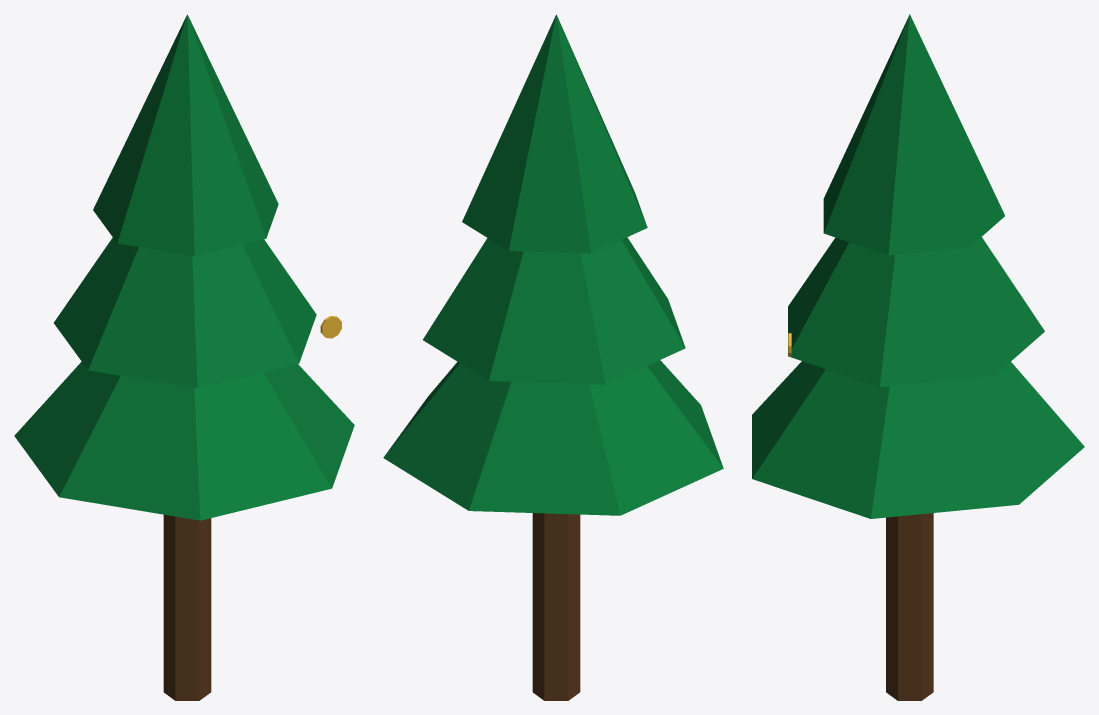
Rendered from Prop_OR_LedgerTree_08.glb.
3 renders of one model, left to right at view 1: azimuth 30°, elevation 25°; view 2: azimuth 150°, elevation 25°; view 3: azimuth 270°, elevation 25°, orthographic.
Visible parts, largest first — view 1: Prop_OR_LedgerTree_08; view 2: Prop_OR_LedgerTree_08; view 3: Prop_OR_LedgerTree_08.
Part boxes in pixels (x1=…): Prop_OR_LedgerTree_08: x1=14, y1=14, x2=354, y2=700; Prop_OR_LedgerTree_08: x1=383, y1=14, x2=723, y2=700; Prop_OR_LedgerTree_08: x1=752, y1=14, x2=1084, y2=700.
Bounding box in the file's own units: 2.14 × 4.7 × 2.09.
